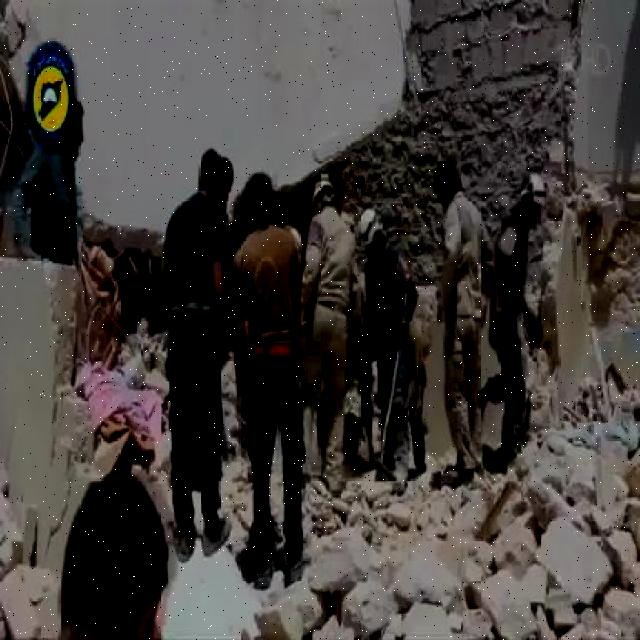Helmet: (508, 171, 550, 204), (355, 206, 383, 252)
